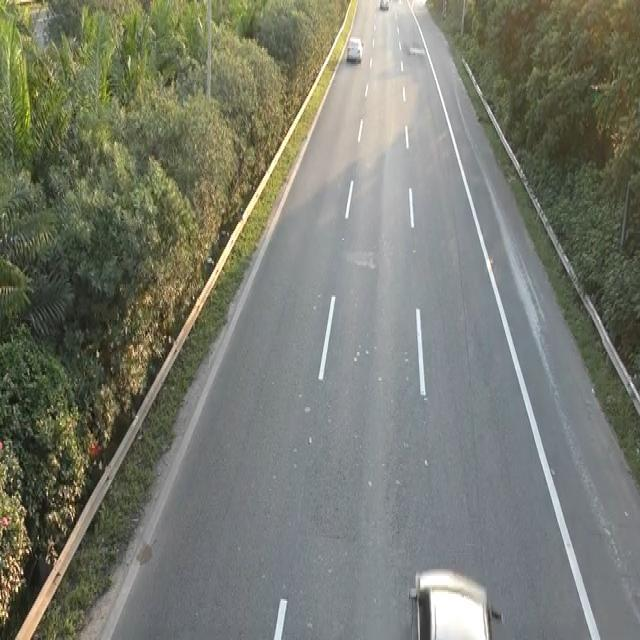bus: (345, 34, 363, 62)
